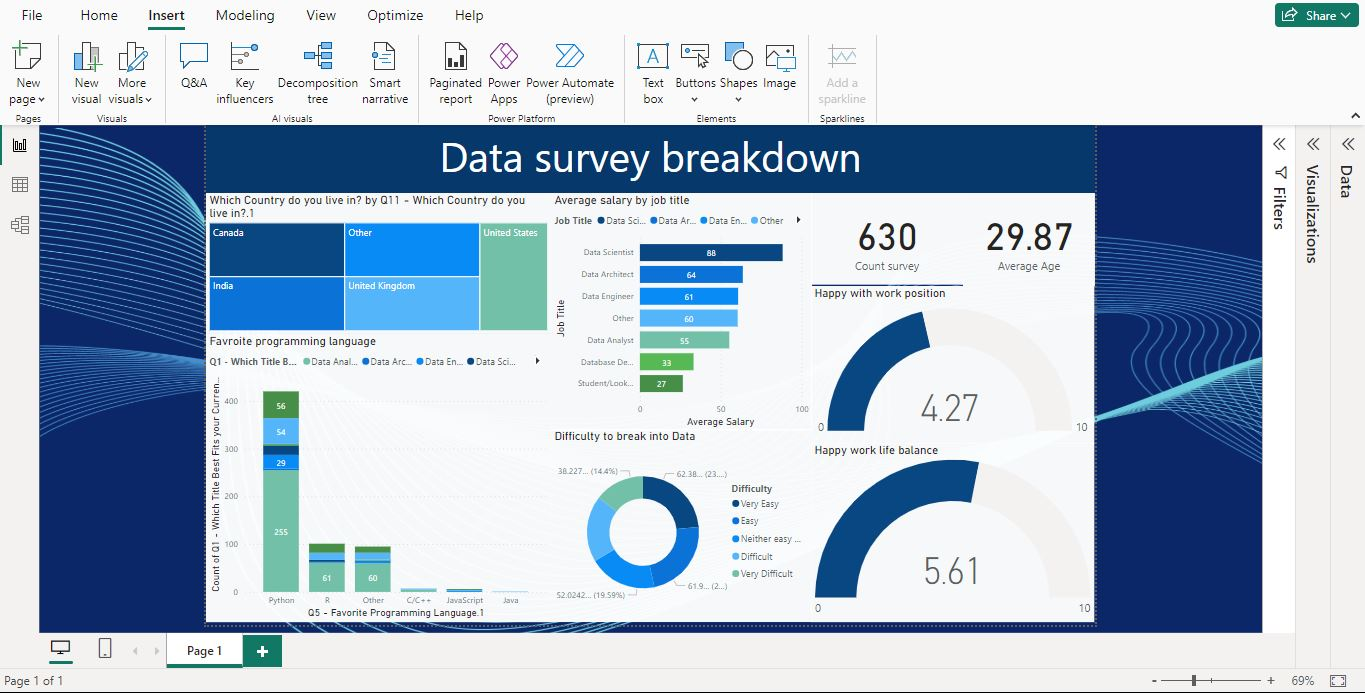

What the dashboard file says about the page in this screenshot:
{"tool":"powerbi","page":{"name":"Page 1","canvas":[1280,720],"ordinal":0},"visuals":[{"type":"textbox","box":[0,0,1280,98.3],"z":0},{"type":"card","fields":{"Values":["Count(Data Professional Survey.Unique ID)"]},"box":[871.7,96.7,218.3,133.3],"z":1000},{"type":"card","fields":{"Values":["Avg(Data Professional Survey.Q10 - Current Age)"]},"box":[1090,96.7,190,135],"z":2000},{"type":"barChart","title":"Average salary by job title","fields":{"Category":["Data Professional Survey.Q1 - Which Title Best Fits your Current Role?.1"],"Y":["Avg(Data Professional Survey.Average Salary)"],"Series":["Data Professional Survey.Q1 - Which Title Best Fits your Current Role?.1"]},"box":[496.6,97.3,375.8,342.2],"z":3000},{"type":"columnChart","title":"Favroite programming language","fields":{"Category":["Data Professional Survey.Q5 - Favorite Programming Language.1"],"Y":["CountNonNull(Data Professional Survey.Q1 - Which Title Best Fits your Current Role?.1)"],"Series":["Data Professional Survey.Q1 - Which Title Best Fits your Current Role?.1"]},"box":[0,291.7,496.7,425],"z":4000},{"type":"treemap","fields":{"Group":["Data Professional Survey.Q11 - Which Country do you live in?.1"],"Values":["Count(Data Professional Survey.Q11 - Which Country do you live in?.1)"]},"box":[0,96.7,496.7,205],"z":5000},{"type":"gauge","title":"Happy work life balance","fields":{"Y":["Avg(Data Professional Survey.Q6 - How Happy are you in your Current Position with the following? (Learning New Things))"],"MinValue":["Min(Data Professional Survey.Q6 - How Happy are you in your Current Position with the following? (Learning New Things))"],"MaxValue":["Max(Data Professional Survey.Q6 - How Happy are you in your Current Position with the following? (Learning New Things))"]},"box":[871.7,458.3,408.3,258.3],"z":6000},{"type":"gauge","title":"Happy with work position","fields":{"Y":["Avg(Data Professional Survey.Q6 - How Happy are you in your Current Position with the following? (Salary))"],"MinValue":["Min(Data Professional Survey.Q6 - How Happy are you in your Current Position with the following? (Salary))"],"MaxValue":["Max(Data Professional Survey.Q6 - How Happy are you in your Current Position with the following? (Salary))"]},"box":[871.7,231.7,408.3,226.7],"z":7000},{"type":"donutChart","title":"Difficulty to break into Data","fields":{"Y":["Avg(Data Professional Survey.Average Salary)"],"Category":["Data Professional Survey.Q7 - How difficult was it for you to break into Data?","Data Professional Survey.Q9 - Male/Female?"]},"box":[496.7,438.3,375,278.3],"z":8000}]}

Visuals, with their boxes on the page's 1280x720 design canvas (x1, y1, x2, y2). These are canvas units, not pixel positions in the 1365x693 screenshot, which may show the page scaled, cropped or inside an application window:
textbox: [0, 0, 1280, 98]
card - Count(Data Professional Survey.Unique ID): [872, 97, 1090, 230]
card - Avg(Data Professional Survey.Q10 - Current Age): [1090, 97, 1280, 232]
"Average salary by job title" barChart: [497, 97, 872, 440]
"Favroite programming language" columnChart: [0, 292, 497, 717]
treemap - Data Professional Survey.Q11 - Which Country do you live in?.1 x Count(Data Professional Survey.Q11 - Which Country do you live in?.1): [0, 97, 497, 302]
"Happy work life balance" gauge: [872, 458, 1280, 717]
"Happy with work position" gauge: [872, 232, 1280, 458]
"Difficulty to break into Data" donutChart: [497, 438, 872, 717]
